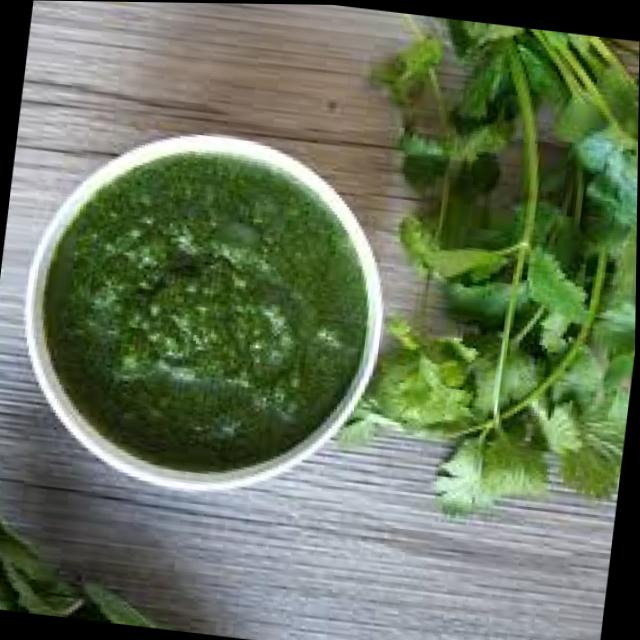GREEN CHUTNEY: (47, 153, 365, 468)
